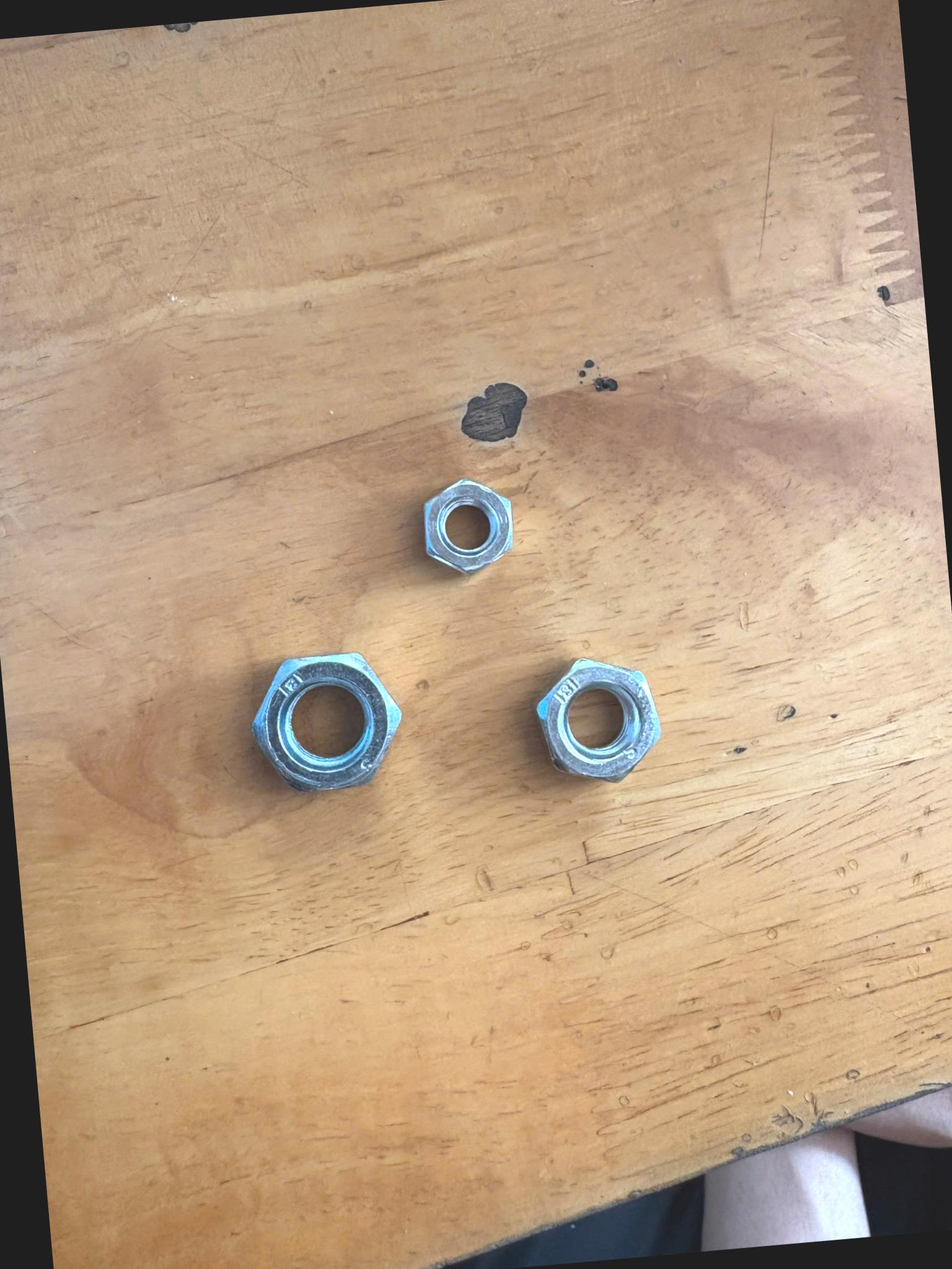nut: (241, 639, 421, 811), (410, 470, 519, 590)
